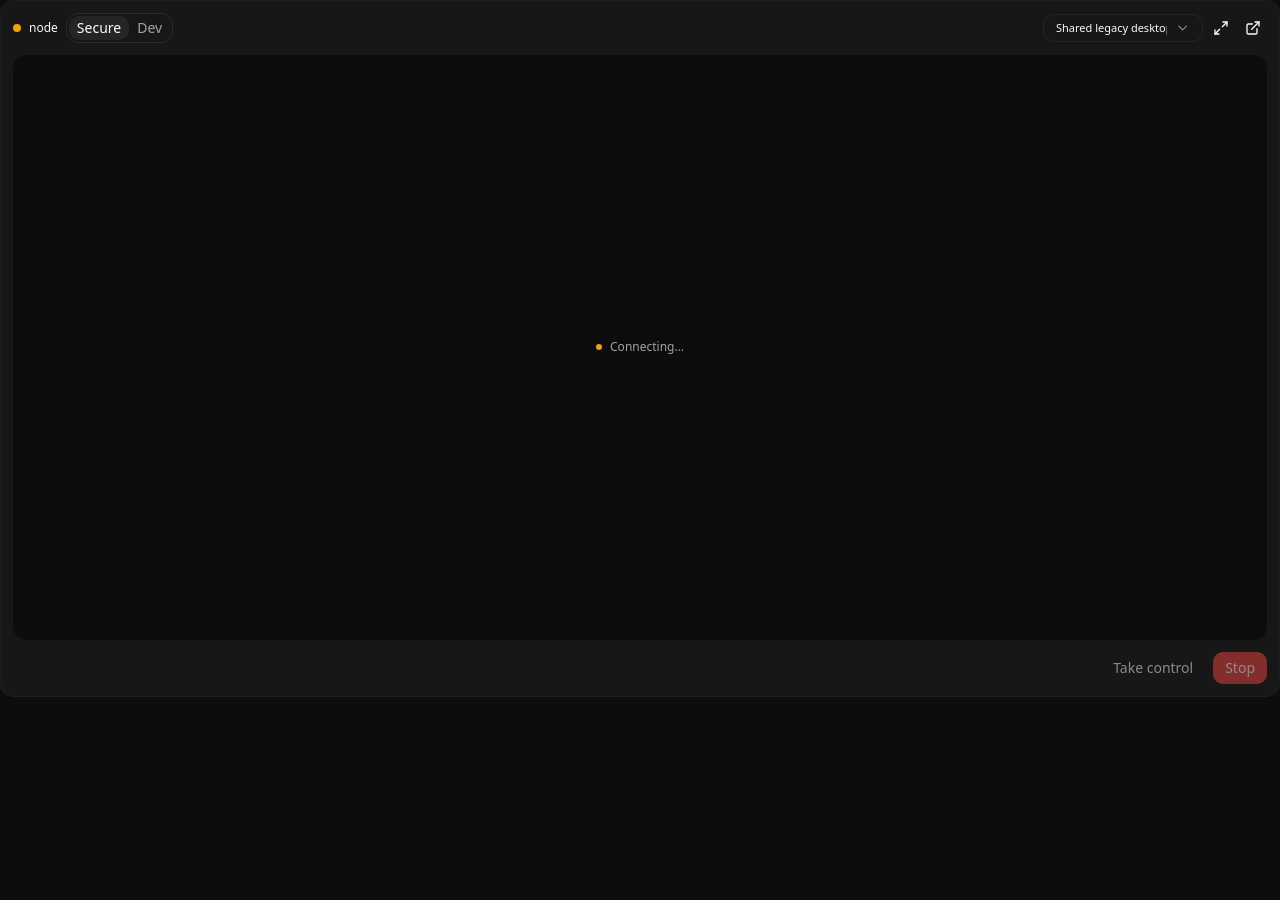
Test: labels an unattributed persisted context as Unknown agent
Click the dropdown named "Desktop context".
click(1123, 28)  # box [1043,14,1203,42]
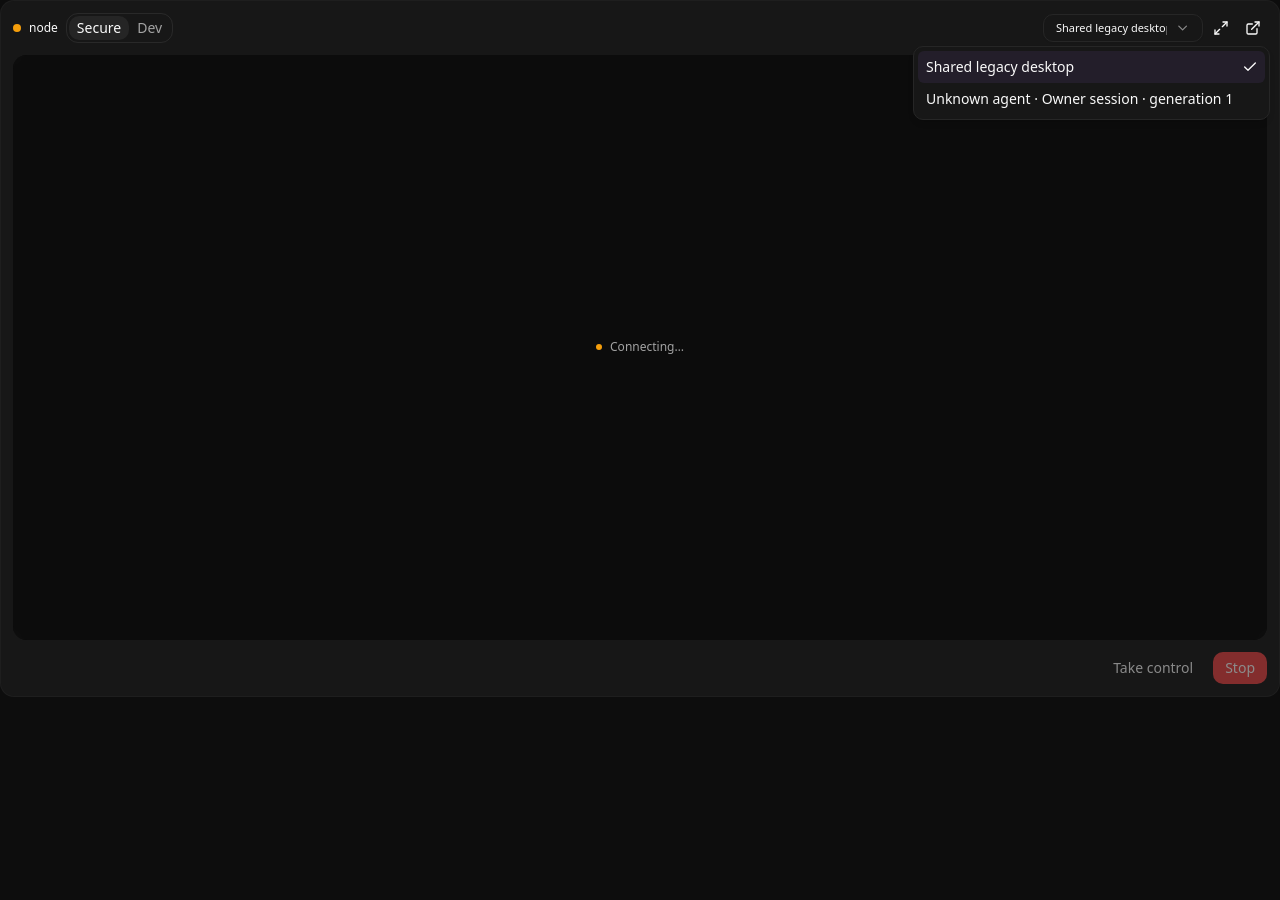
Expected: the option "Unknown agent · Owner session · generation 1" is shown, [926,89,1233,108]
